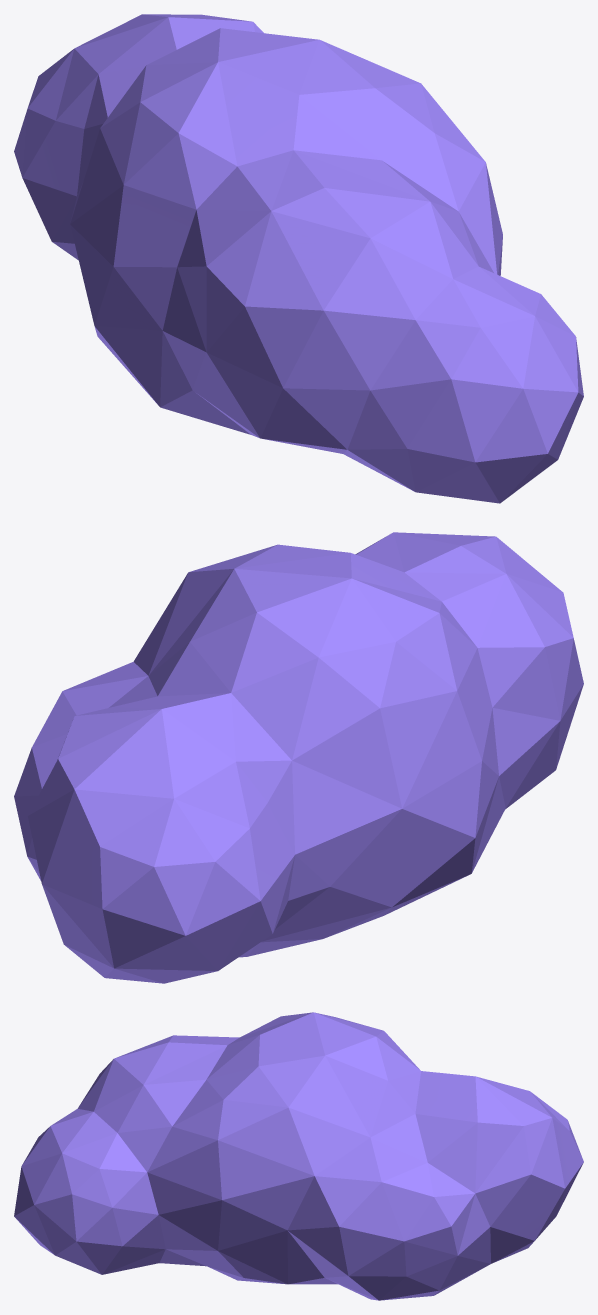
File: cloud1.gltf
The picture shows the model from 3 angles, top to bottom: view 1: azimuth 30°, elevation 25°; view 2: azimuth 150°, elevation 25°; view 3: azimuth 270°, elevation 25°; orthographic projection. The views are drawn at different scales.
Parts seen in each view (by area): view 1: cloud1_geo; view 2: cloud1_geo; view 3: cloud1_geo.
Boxes of the visible parts, left/top/right/bottom form: cloud1_geo: left=14, top=14, right=583, bottom=503; cloud1_geo: left=14, top=532, right=583, bottom=983; cloud1_geo: left=14, top=1012, right=583, bottom=1300.
Bounding box in the file's own units: 1.88 × 1.69 × 3.54.
